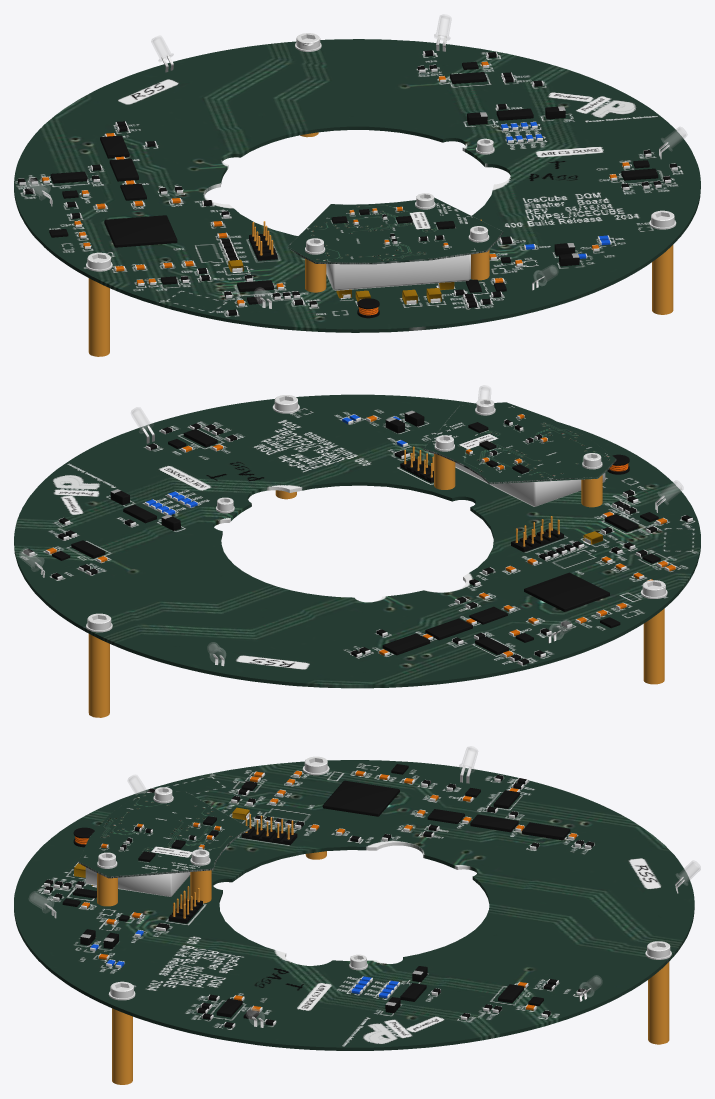
The model's file is s1DOM_Mid_Board.obj.
3 views of the same model, one above another, from view 1: azimuth 30°, elevation 25°; view 2: azimuth 150°, elevation 25°; view 3: azimuth 270°, elevation 25° (orthographic).
Visible parts, largest first — view 1: bottom_circuit_board_replace, flasher_board_side_panel, Battery_002, ChamferBox073, gold_pole003, gold_pole006, gold_pole008; view 2: bottom_circuit_board_replace, flasher_board_side_panel, ChamferBox073, gold_pole007, Battery_002, gold_pole003, gold_pole010, gold_pole008, Box011, ChamferBox076, ChamferBox074; view 3: bottom_circuit_board_replace, flasher_board_side_panel, ChamferBox073, gold_pole007, gold_pole006, Battery_002, gold_pole010, gold_pole009, Box011, ChamferBox076, ChamferBox074.
Part boxes in pixels (x1,y1,x2,y2): bottom_circuit_board_replace: (14, 39, 700, 332); flasher_board_side_panel: (288, 197, 503, 264); Battery_002: (326, 254, 470, 290); ChamferBox073: (104, 215, 177, 247); gold_pole003: (88, 278, 109, 356); gold_pole006: (652, 245, 673, 314); gold_pole008: (305, 258, 326, 292); bottom_circuit_board_replace: (14, 394, 700, 688); flasher_board_side_panel: (423, 402, 616, 484); ChamferBox073: (524, 572, 609, 611); gold_pole007: (88, 634, 109, 717); Battery_002: (455, 462, 605, 506); gold_pole003: (643, 608, 664, 684); gold_pole010: (434, 453, 455, 489); gold_pole008: (581, 475, 602, 507); Box011: (511, 528, 563, 552); ChamferBox076: (382, 633, 430, 655); ChamferBox074: (425, 618, 472, 640); bottom_circuit_board_replace: (14, 760, 694, 1050); flasher_board_side_panel: (78, 791, 249, 878); ChamferBox073: (322, 780, 399, 816); gold_pole007: (648, 962, 669, 1044); gold_pole006: (112, 1008, 132, 1084); Battery_002: (85, 867, 190, 896); gold_pole010: (190, 870, 211, 903); gold_pole009: (97, 873, 117, 906); Box011: (241, 826, 297, 845); ChamferBox076: (522, 822, 570, 840); ChamferBox074: (470, 814, 518, 832).
Bounding box in the file's own units: 0.2226 × 0.0476 × 0.2246.
